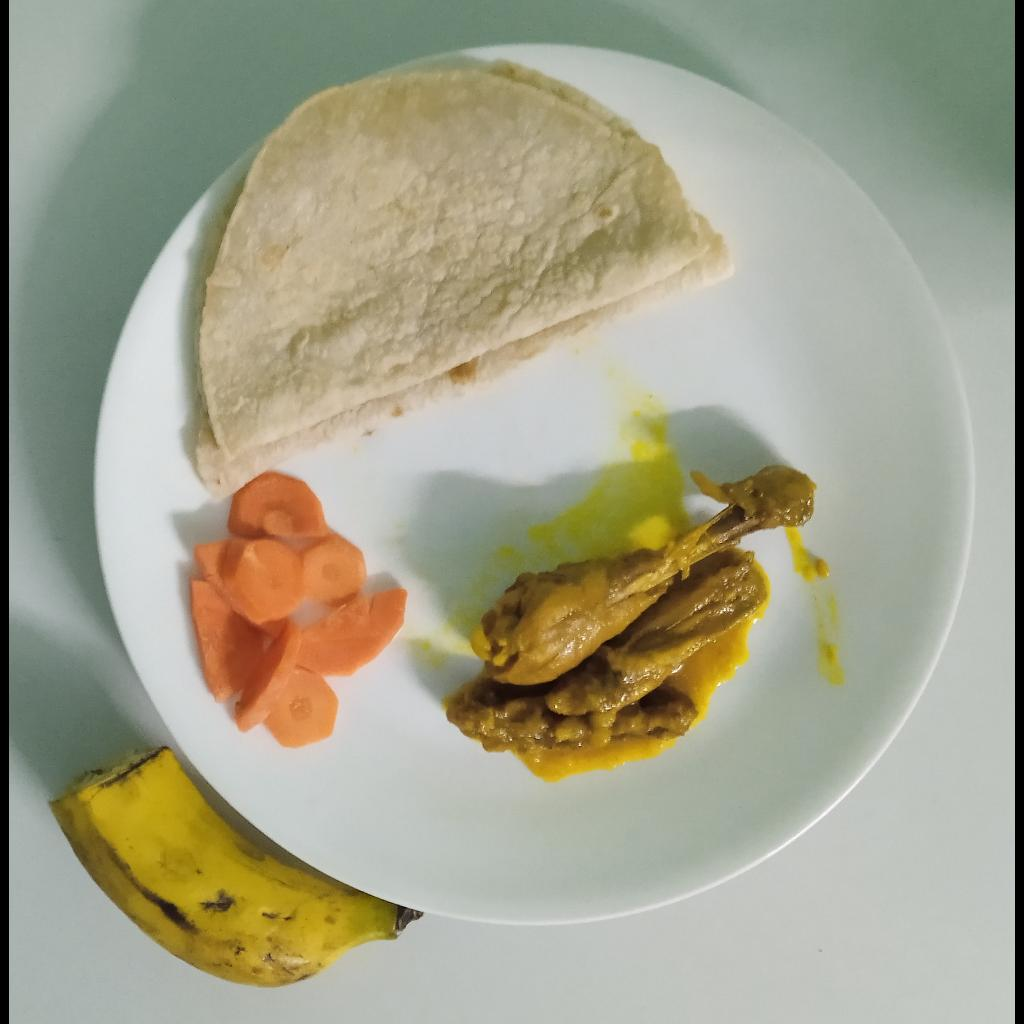banana: (51, 747, 410, 990)
carrot: (186, 473, 408, 752)
chicken: (449, 459, 819, 775)
ruti: (196, 55, 738, 504)
